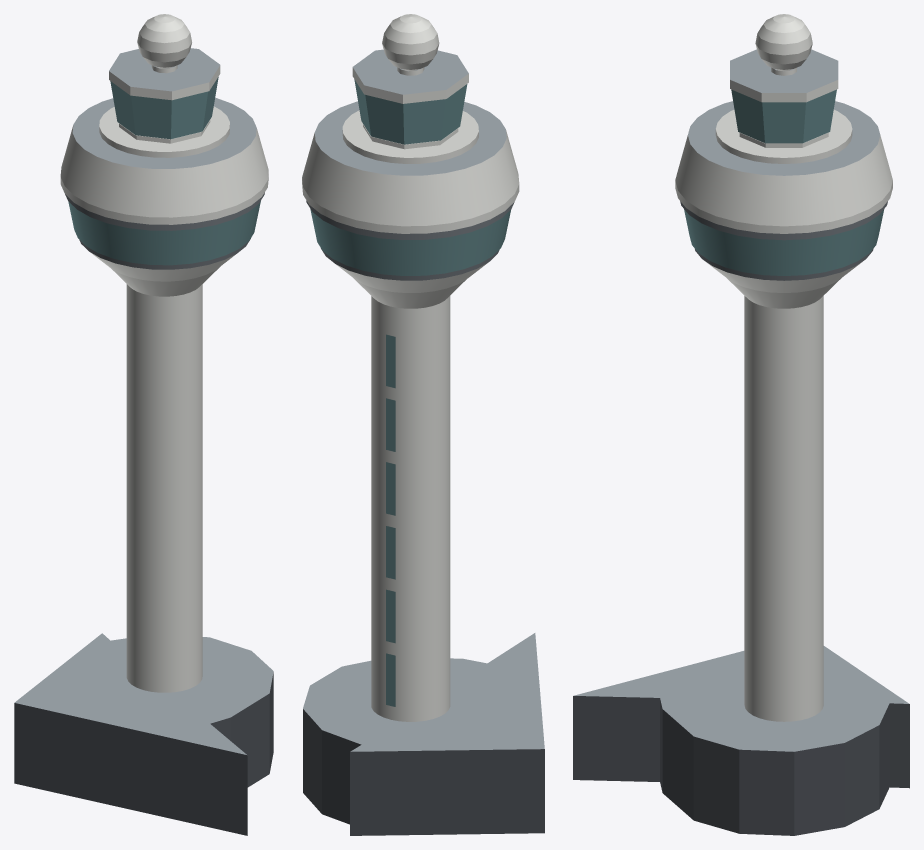
File: amsterdam-schiphol-control-tower.glb
The picture shows the model from 3 angles, left to right: view 1: azimuth 30°, elevation 25°; view 2: azimuth 150°, elevation 25°; view 3: azimuth 270°, elevation 25°; orthographic projection. The views are drawn at different scales.
Visible parts, largest first — view 1: Schiphol control tower; view 2: Schiphol control tower; view 3: Schiphol control tower.
Boxes of the visible parts, left/top/right/bottom form: Schiphol control tower: left=14, top=14, right=273, bottom=835; Schiphol control tower: left=302, top=14, right=544, bottom=835; Schiphol control tower: left=573, top=14, right=909, bottom=835.
Size of the model in its own units: 33 by 101 by 39.9.
